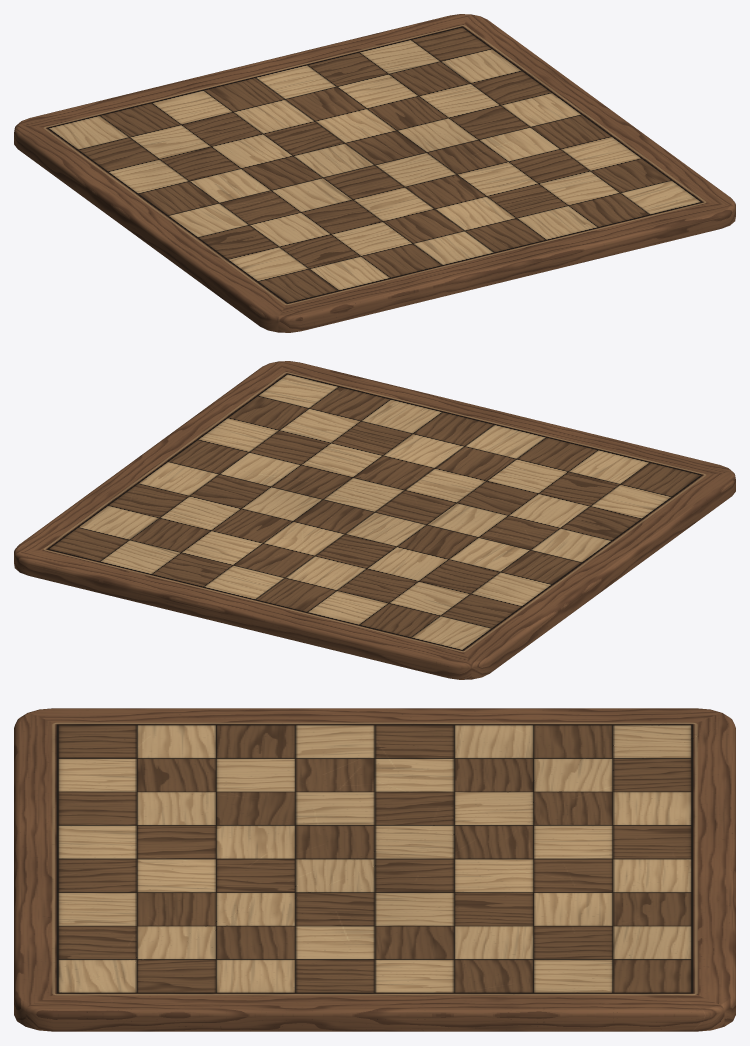
The model's file is schaakbord.glb.
The picture shows the model from 3 angles, top to bottom: view 1: azimuth 30°, elevation 25°; view 2: azimuth 150°, elevation 25°; view 3: azimuth 270°, elevation 25°; orthographic projection. The views are drawn at different scales.
Parts seen in each view (by area): view 1: schaakbord; view 2: schaakbord; view 3: schaakbord.
Boxes of the visible parts, <box> form: schaakbord: <box>14,14,735,332</box>; schaakbord: <box>14,361,735,679</box>; schaakbord: <box>14,708,735,1031</box>.
Size of the model in its own units: 9.1 by 0.28 by 9.1.
Materials: 1 (1 with a texture image).
